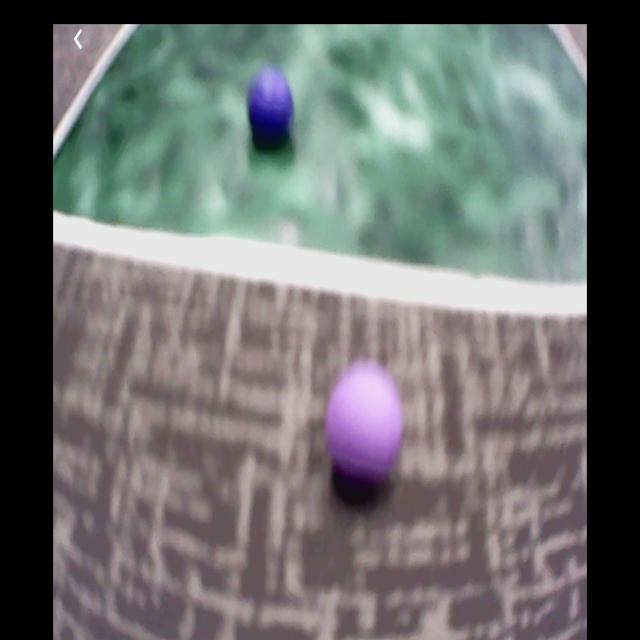ball: (329, 366, 403, 479), (250, 71, 292, 138)
